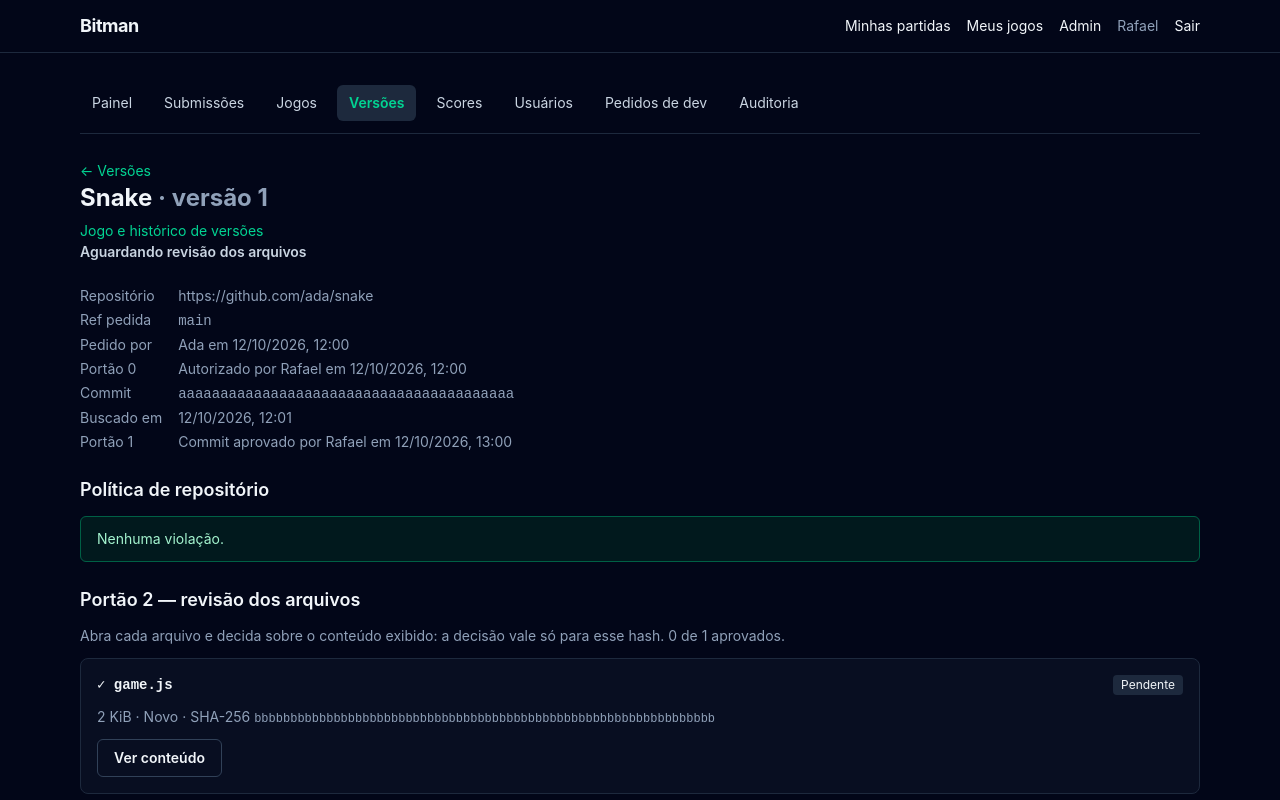
VersionPage › Portão 2 › conteúdo com hash diferente do arquivo não pode ser decidido
This screenshot has width=1280, height=800.
Click the button "Ver conteúdo" at (159, 758), box [97,739,222,777]
(page scrolled)
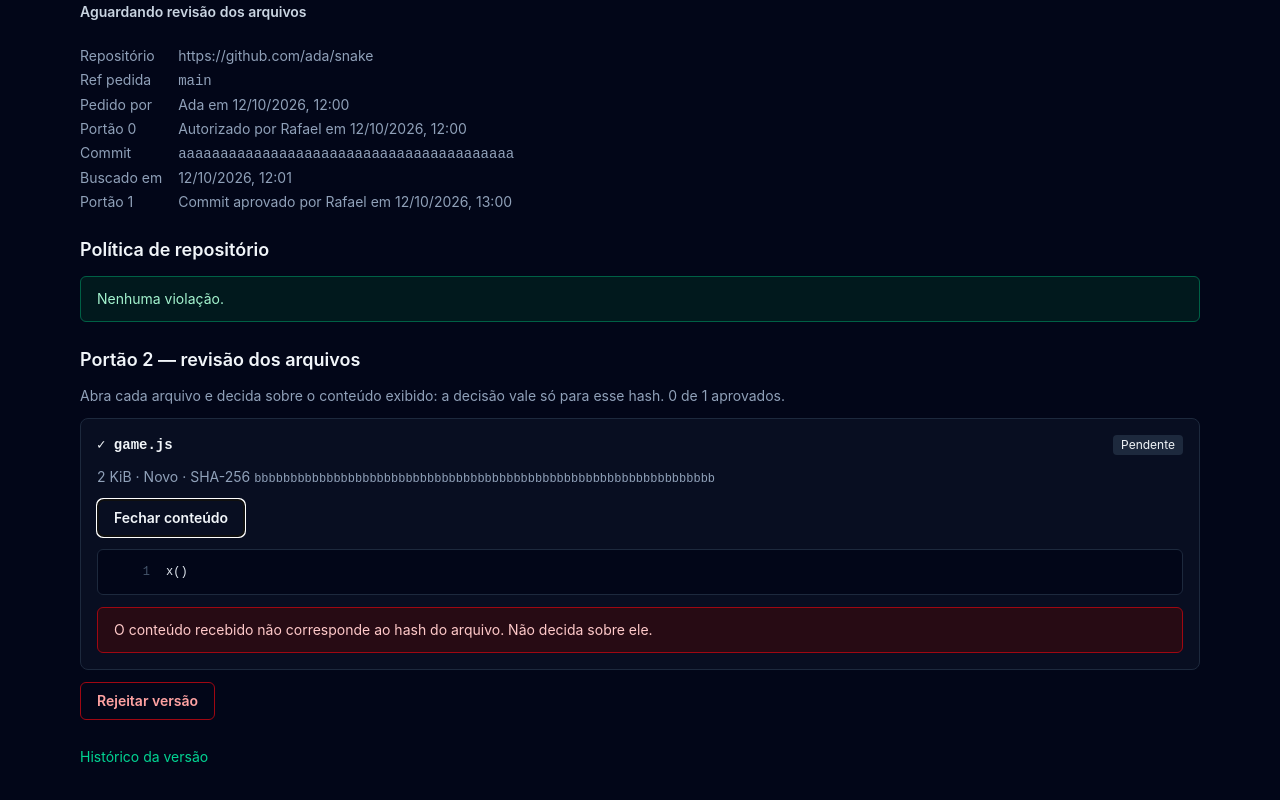
Expected: the text "O conteúdo recebido não corresponde ao hash do arquivo. Não decida sobre ele." is shown, [97,607,1183,653]
